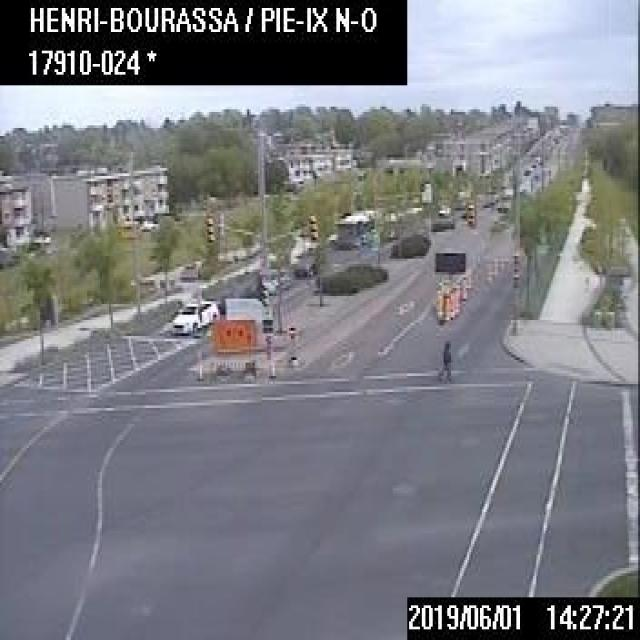bus: (336, 208, 372, 245)
construction: (196, 296, 273, 384), (432, 251, 463, 317), (284, 320, 298, 341), (434, 287, 440, 316), (452, 285, 458, 313), (442, 294, 448, 318), (448, 289, 452, 316), (460, 274, 464, 298)
pedestrian: (436, 336, 451, 381)
vehicle: (169, 296, 218, 333), (380, 204, 420, 238), (292, 250, 318, 274), (436, 202, 451, 215)
